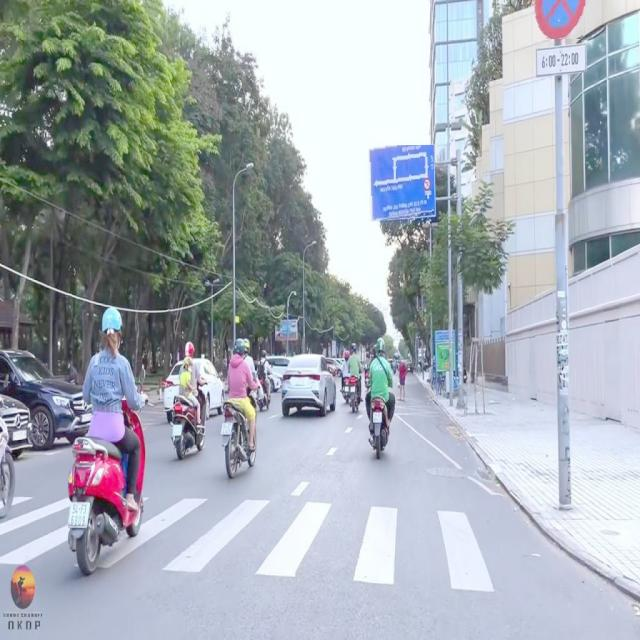cam_dung_xe_va_do_xe: (534, 0, 586, 39)
khac: (368, 145, 434, 221), (536, 46, 586, 76)
